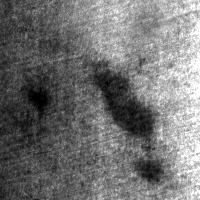patches: (59, 0, 187, 64), (91, 60, 154, 148), (132, 144, 167, 185), (22, 81, 52, 116)
